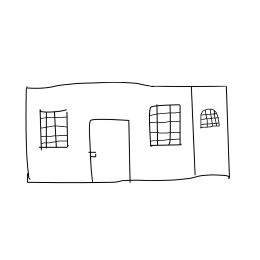closed_window: (144, 102, 189, 152), (34, 106, 76, 151), (197, 104, 222, 132)
door: (83, 112, 138, 187)
single_line_roof: (17, 73, 234, 106)
wall: (24, 79, 198, 187)
